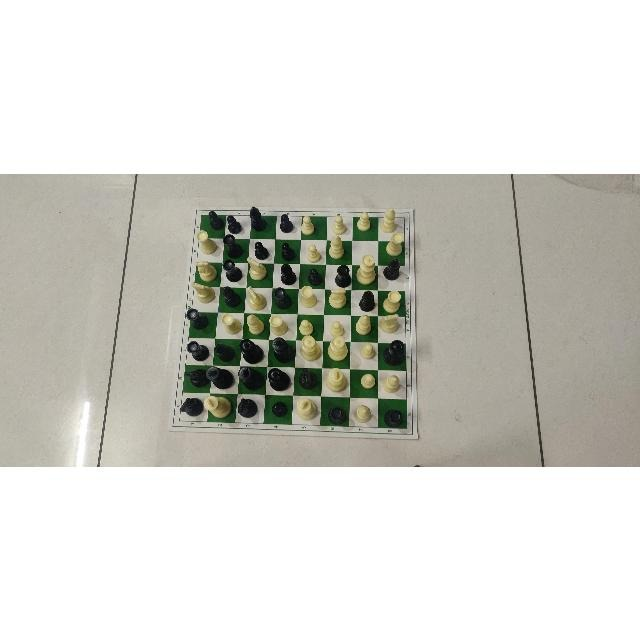black-bishop: (213, 341, 236, 363), (248, 206, 269, 230), (221, 285, 243, 307), (357, 288, 378, 311), (382, 257, 402, 280), (279, 262, 297, 286)
black-king: (206, 363, 234, 388), (236, 366, 264, 390), (269, 336, 294, 362)
black-knight: (180, 394, 203, 418), (296, 366, 319, 389), (237, 396, 259, 420), (184, 367, 209, 387)
black-pawn: (207, 210, 225, 230), (269, 400, 289, 418), (226, 214, 244, 233), (278, 212, 296, 231), (280, 241, 298, 260), (253, 241, 271, 259), (306, 267, 323, 285)
black-queen: (238, 337, 266, 365), (382, 337, 405, 365), (267, 367, 291, 391)
black-rook: (185, 338, 210, 361), (221, 233, 244, 258), (186, 306, 210, 329), (222, 258, 244, 282), (272, 286, 294, 309), (332, 264, 352, 288), (325, 406, 348, 426), (383, 406, 403, 428)
white-bishop: (378, 207, 401, 233), (245, 313, 267, 336), (327, 233, 347, 258), (353, 313, 374, 335), (382, 373, 402, 395), (353, 402, 373, 424)
white-king: (203, 393, 233, 419), (295, 396, 319, 421), (326, 366, 348, 393)
white-knight: (245, 254, 269, 282), (191, 279, 215, 303), (194, 260, 218, 282), (328, 287, 350, 311), (247, 285, 267, 310), (379, 312, 400, 334)
white-pawn: (354, 211, 374, 232), (359, 342, 378, 361), (358, 371, 377, 390), (331, 214, 349, 234), (299, 215, 317, 235), (305, 243, 323, 262), (328, 319, 347, 337), (297, 318, 316, 335)
white-queen: (355, 252, 377, 285), (299, 335, 323, 361), (328, 335, 350, 361)
white-rook: (381, 288, 405, 313), (384, 232, 406, 256), (196, 228, 217, 253), (298, 284, 319, 308), (220, 313, 242, 335), (269, 314, 289, 336)
